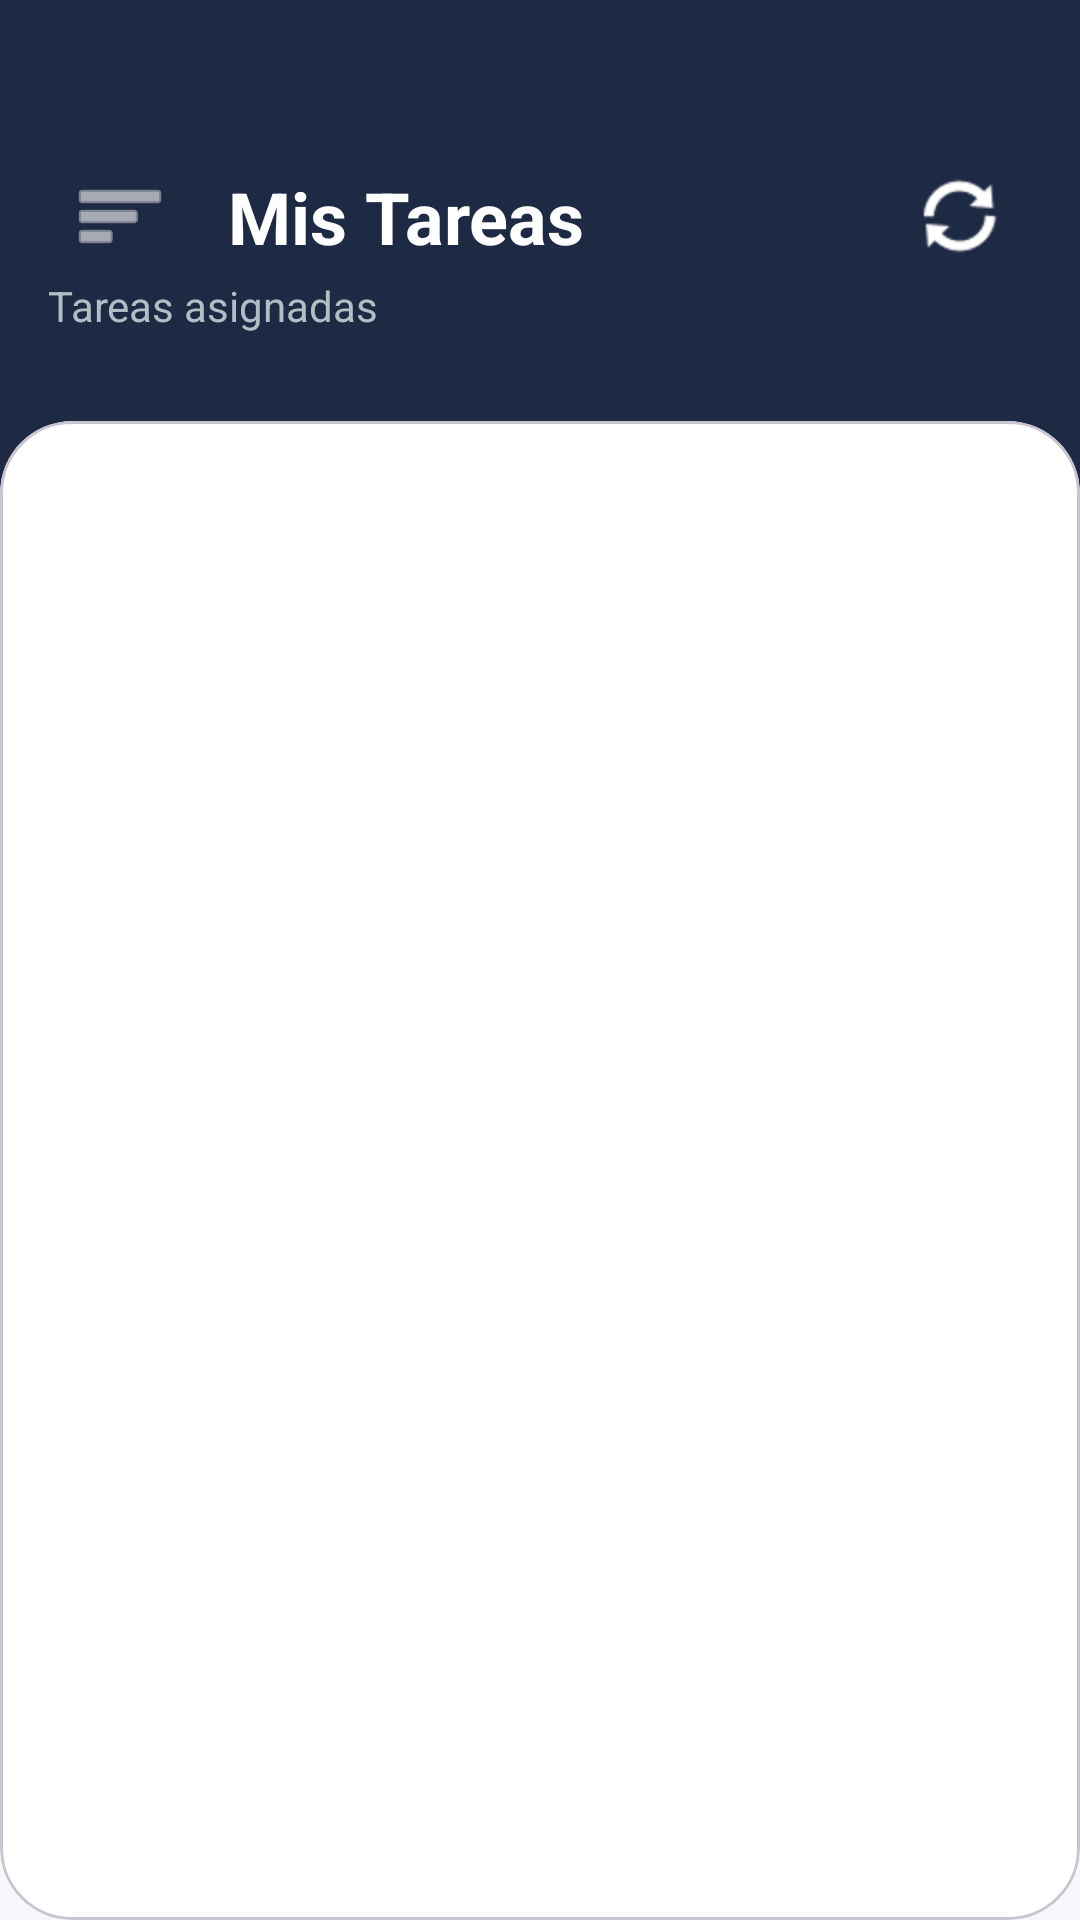

Where icons sit on this 1080w x 1920h app screen, as (x1, y1, x2, y2):
popup sync: (923, 180, 997, 252)
sort by size: (79, 190, 161, 243)
